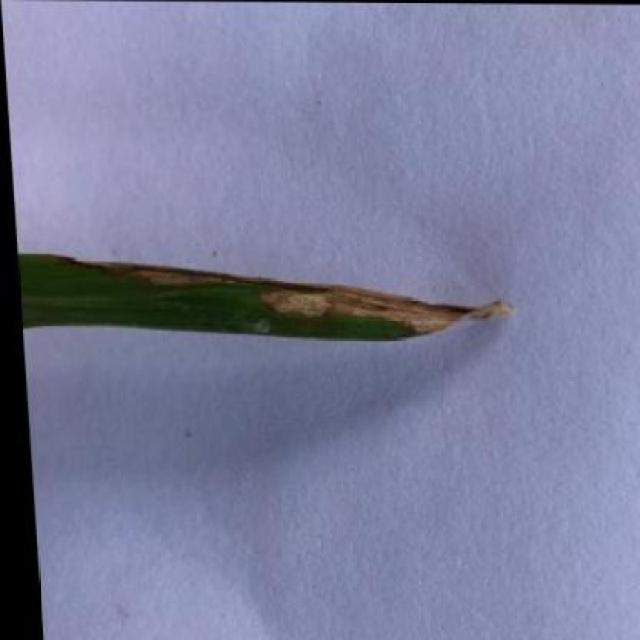Brown_Spot: (13, 249, 521, 349)
